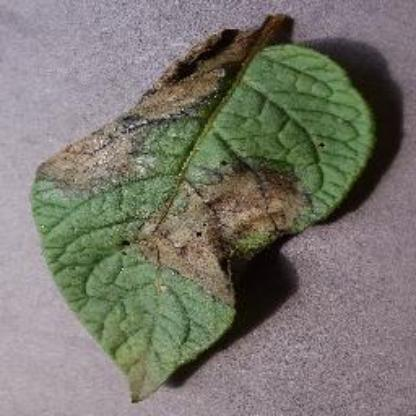Late-Blight: (6, 5, 410, 410)
